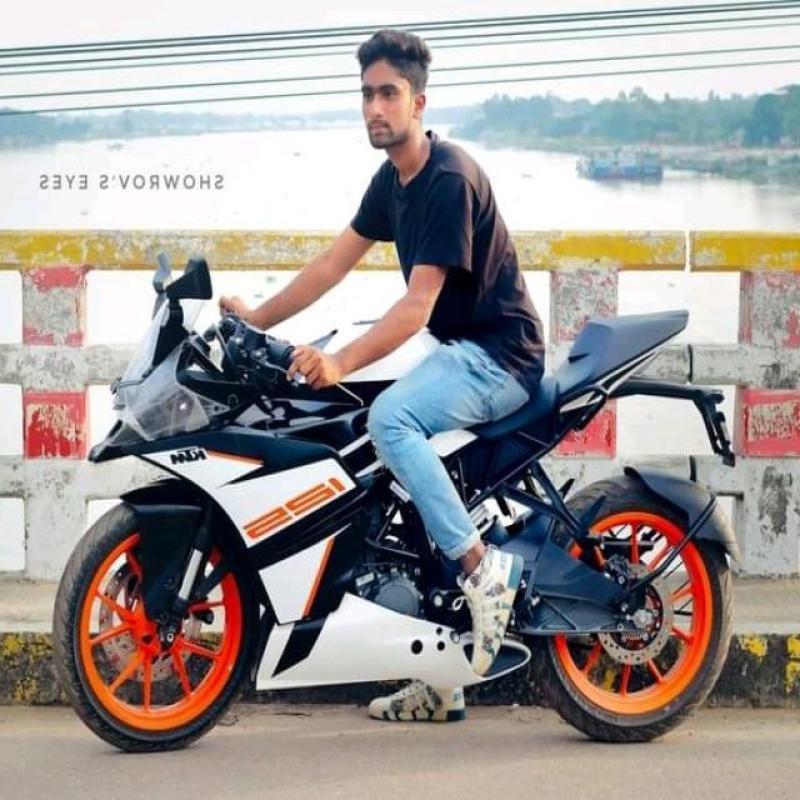nohelmet: (350, 35, 434, 169)
